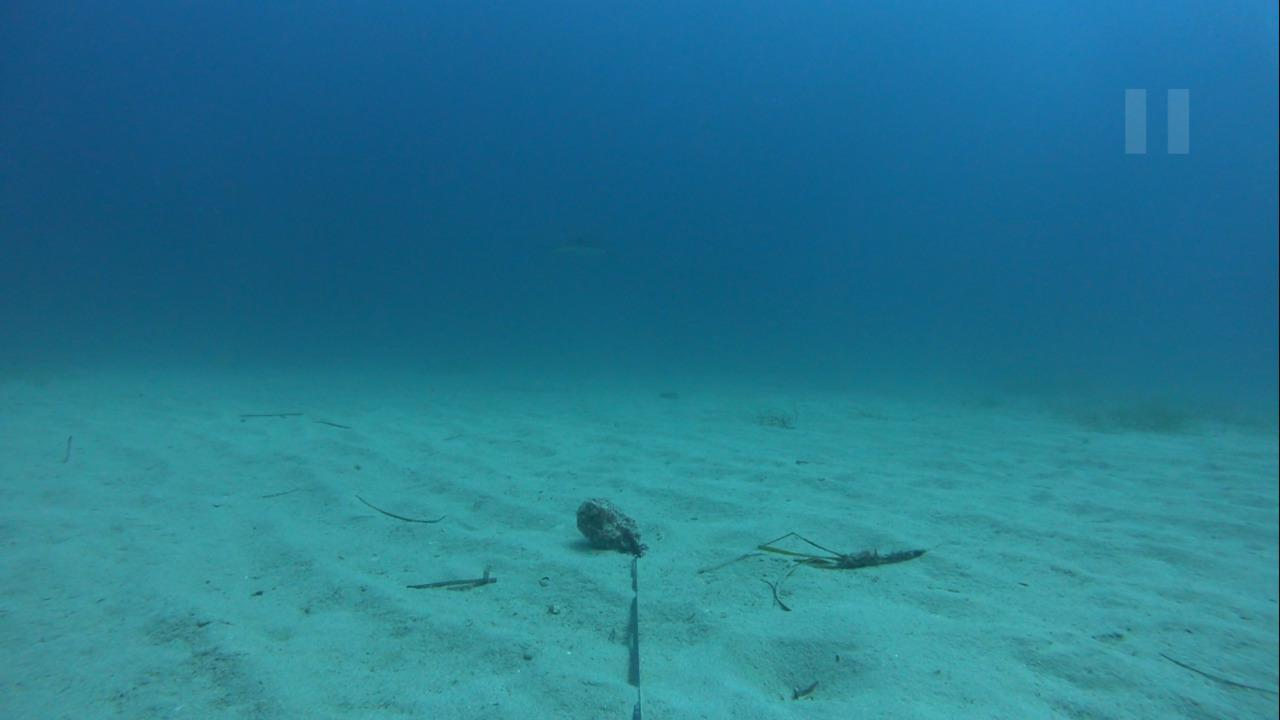myliobatis: (526, 224, 633, 272)
